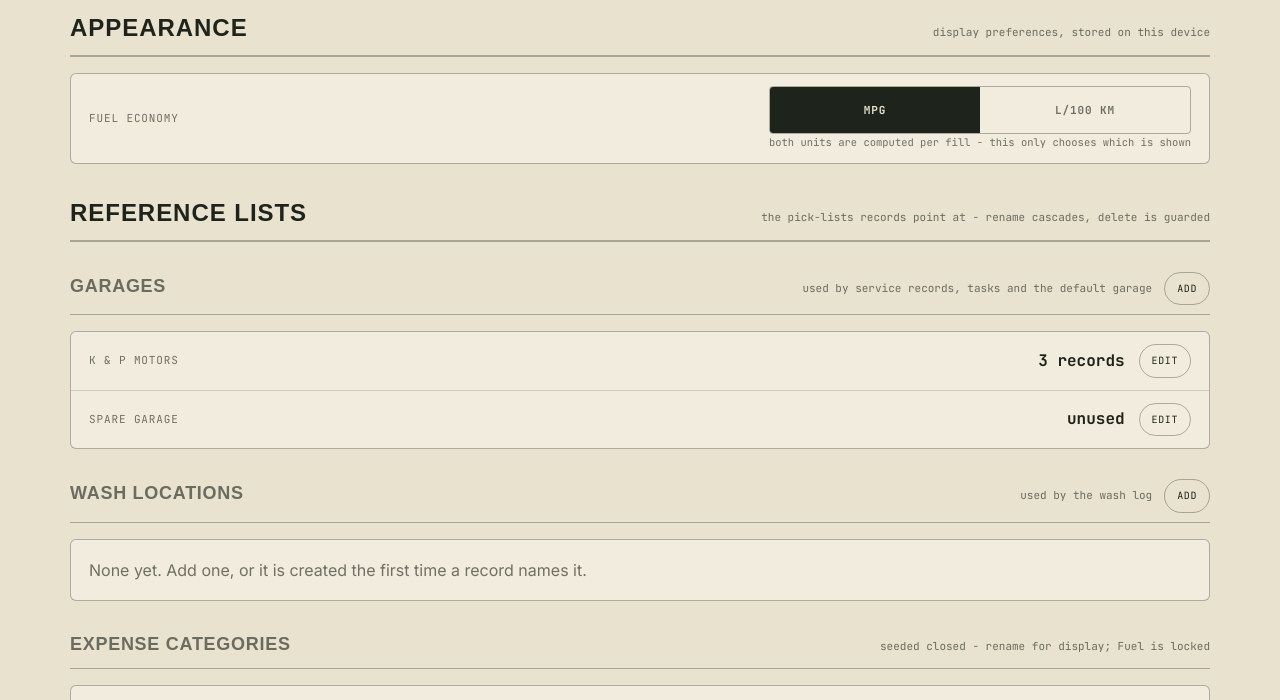
Scenario: the account page - reference lists › requires a re-home target before deleting a referenced garage
(page scrolled)
K & P Motors has 3 records - opening it offers "Re-home & delete" and a picker, not a bare delete.
Click the button "Edit" in the row of "K & P Motors". click: (1165, 361)
box: [1139,344,1191,378]
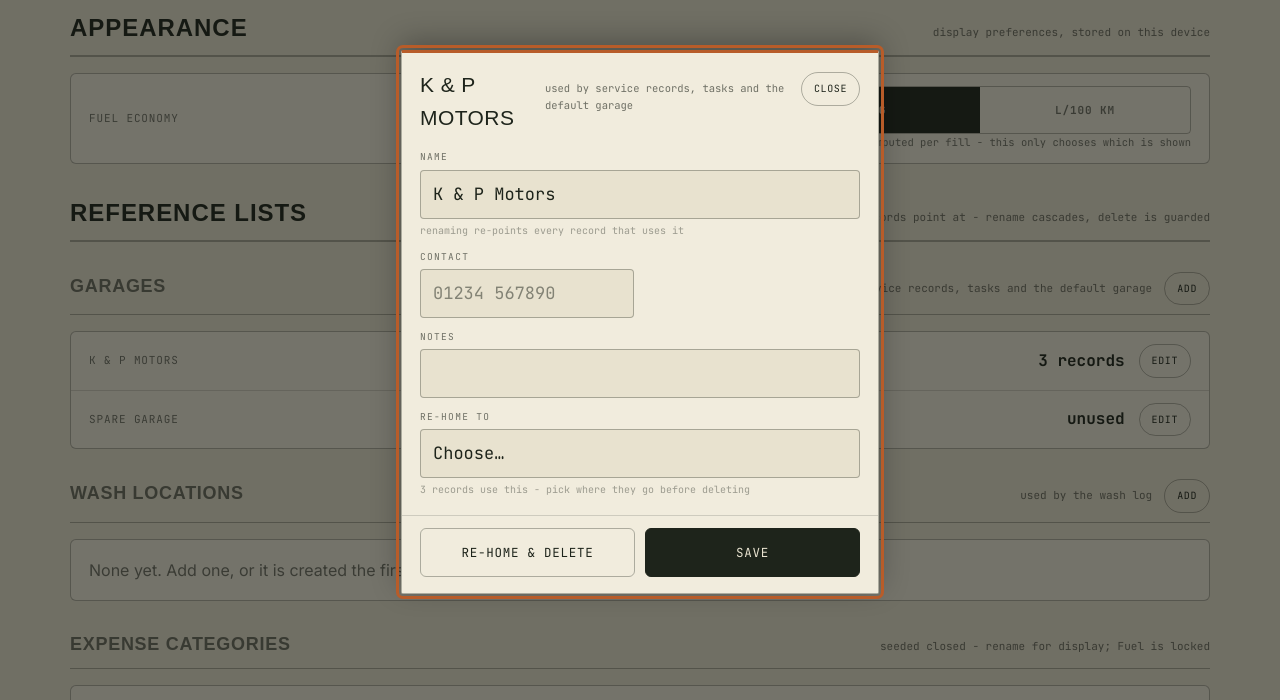
Check: the text "Re-home to" is shown, box [420,410,490,423]
Check: the button "Re-home & delete" is shown
Deleting without picking a target is refused client-side with the count.
Click the button "Re-home & delete". click: (528, 552)
box: [420,528,635,577]
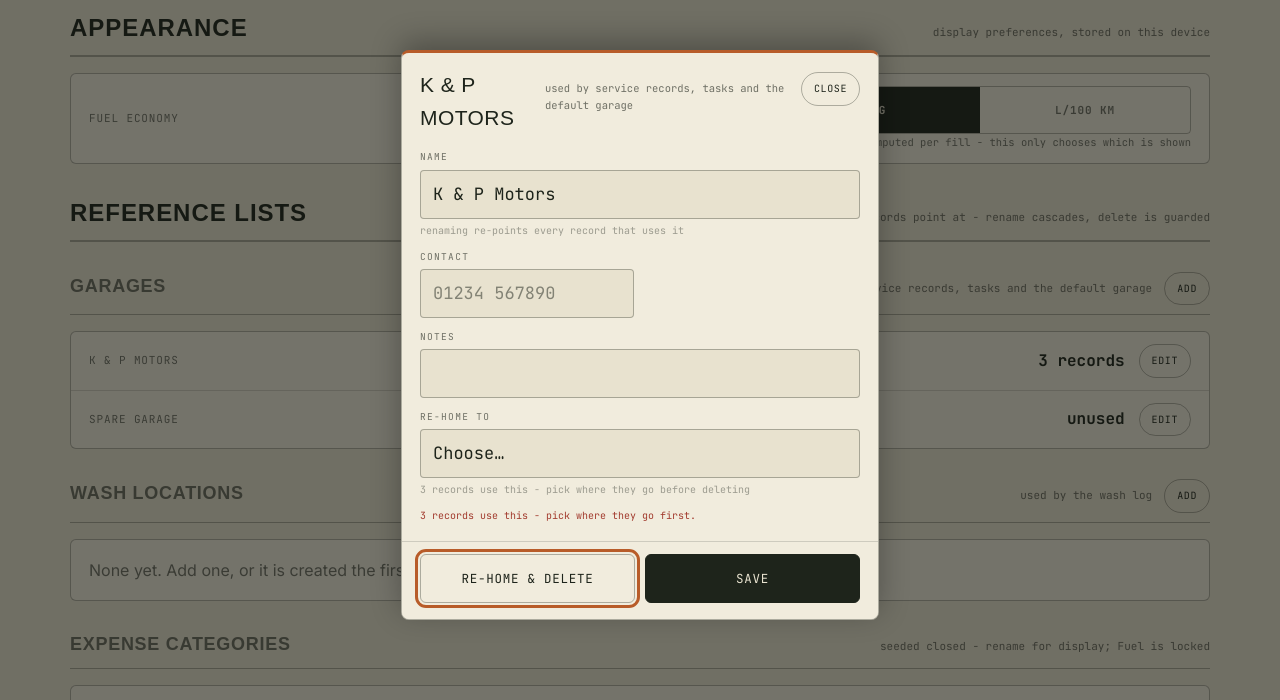
Check: the message shows "3 records use this", box [420,509,696,522]
